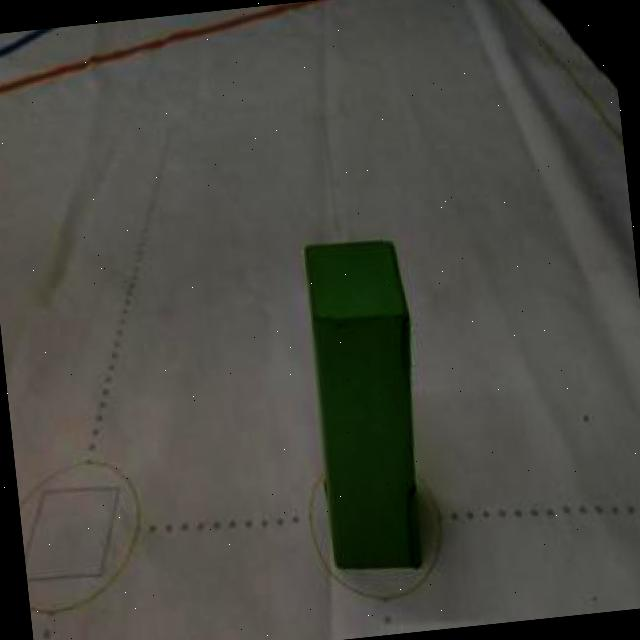greenbox: (300, 234, 430, 576)
